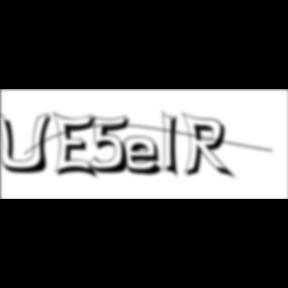5: (88, 114, 136, 176)
E: (53, 110, 102, 182)
R: (181, 112, 238, 182)
U: (1, 110, 58, 176)
e: (124, 135, 170, 178)
l: (162, 108, 186, 182)
